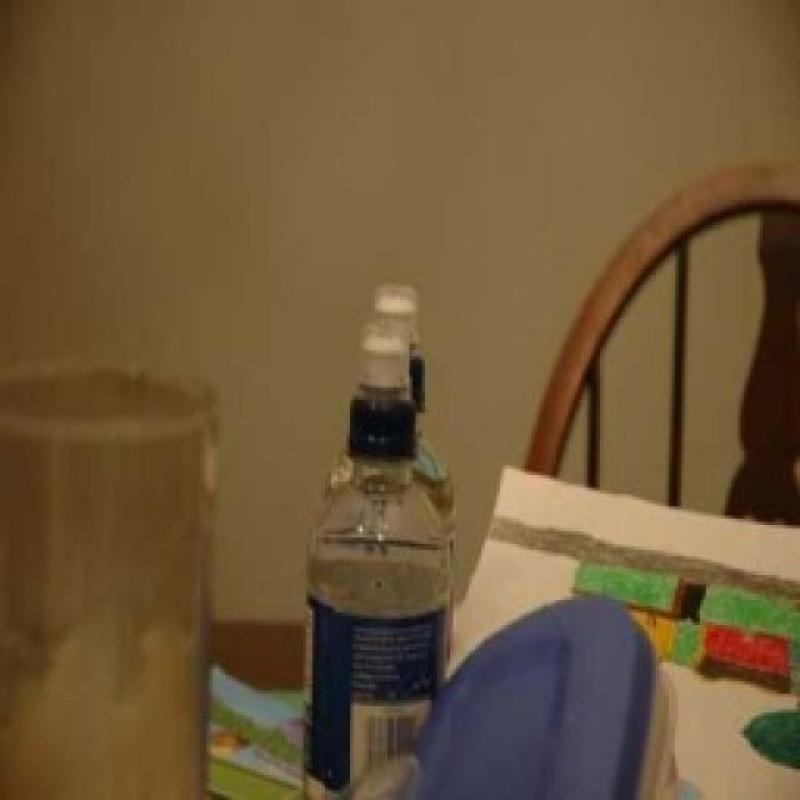botella: (300, 325, 450, 800), (310, 281, 460, 597)
